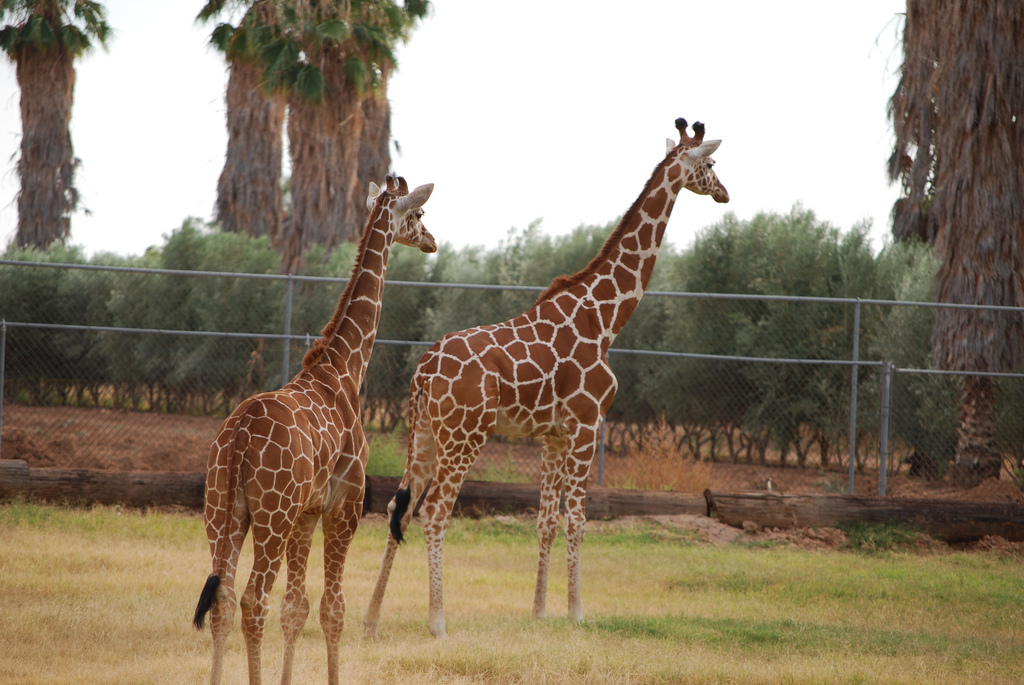giraffe: (407, 106, 756, 570), (199, 159, 471, 604)
